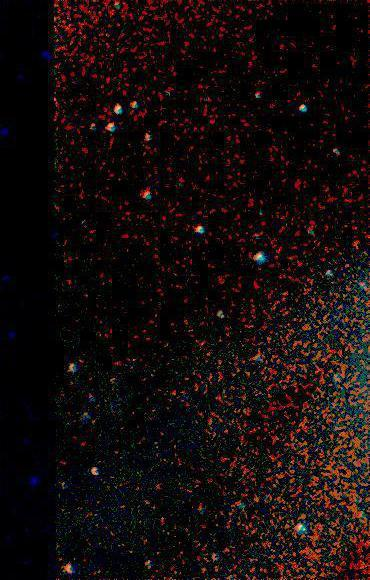star: (239, 484, 269, 514)
